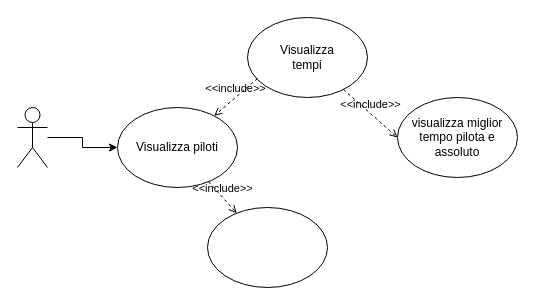
This 535x305 diagram has some shape labels left out. Here are the shapes that lost their labels. From the top down, the centre of each, then its label:
At [32,137]: "Actor".
At [267,247]: "Visualizza lista piloti in ordine di arrivo".
